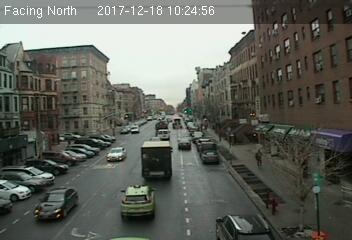car: (214, 212, 270, 240), (32, 187, 79, 219), (121, 185, 156, 219), (107, 147, 125, 162), (202, 150, 220, 164), (177, 137, 191, 149)
pedestrian: (255, 147, 262, 167)
truck: (157, 129, 170, 139)
ups: (140, 140, 172, 180)
